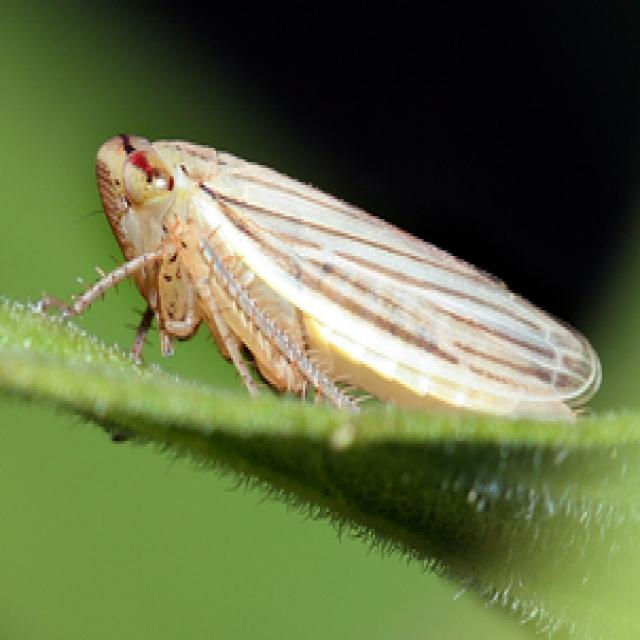Yechan: (69, 100, 612, 439)
